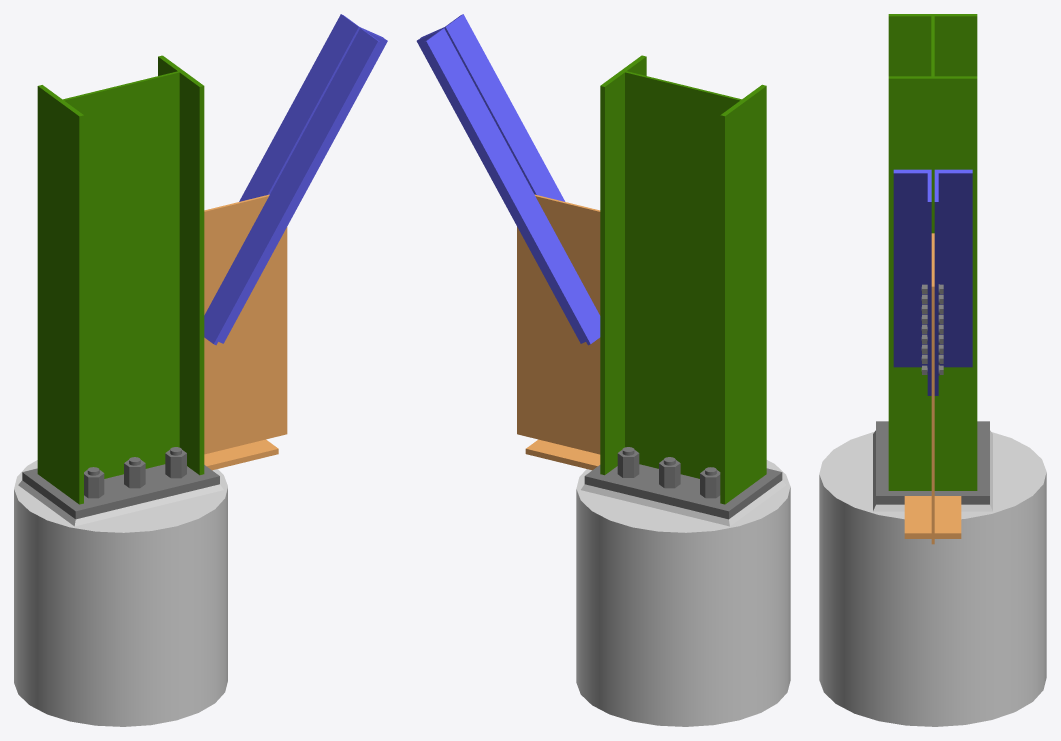
Rendered from neyland-connection.gltf.
The picture shows the model from 3 angles, left to right: view 1: azimuth 30°, elevation 25°; view 2: azimuth 150°, elevation 25°; view 3: azimuth 270°, elevation 25°; orthographic projection. The views are drawn at different scales.
Visible parts, largest first — view 1: root, object 13, object 12, object 2, object 20, AISC_ A325 Bolt_Washer_Nut 1.500 (×3), object 21; view 2: root, object 13, object 12, object 2, object 20, AISC_ A325 Bolt_Washer_Nut 1.500 (×3), object 21; view 3: object 13, root, object 2, object 20, object 21, object 12.
Part boxes in pixels (x1=…): root: x1=18, y1=55, x2=223, y2=526; object 13: x1=14, y1=460, x2=227, y2=726; object 12: x1=204, y1=194, x2=287, y2=454; object 2: x1=204, y1=14, x2=387, y2=345; object 20: x1=22, y1=464, x2=219, y2=519; AISC_ A325 Bolt_Washer_Nut 1.500 (×3): x1=84, y1=447, x2=186, y2=498; object 21: x1=204, y1=439, x2=278, y2=470; root: x1=581, y1=55, x2=785, y2=526; object 13: x1=576, y1=460, x2=790, y2=726; object 12: x1=517, y1=194, x2=600, y2=454; object 2: x1=416, y1=14, x2=600, y2=345; object 20: x1=584, y1=464, x2=782, y2=519; AISC_ A325 Bolt_Washer_Nut 1.500 (×3): x1=617, y1=447, x2=720, y2=498; object 21: x1=525, y1=439, x2=600, y2=470; object 13: x1=819, y1=431, x2=1046, y2=726; root: x1=873, y1=14, x2=992, y2=511; object 2: x1=893, y1=169, x2=972, y2=395; object 20: x1=876, y1=421, x2=989, y2=504; object 21: x1=904, y1=496, x2=961, y2=538; object 12: x1=931, y1=233, x2=934, y2=544.
Size of the model in its own units: 1.76 by 2.81 by 0.9141.
